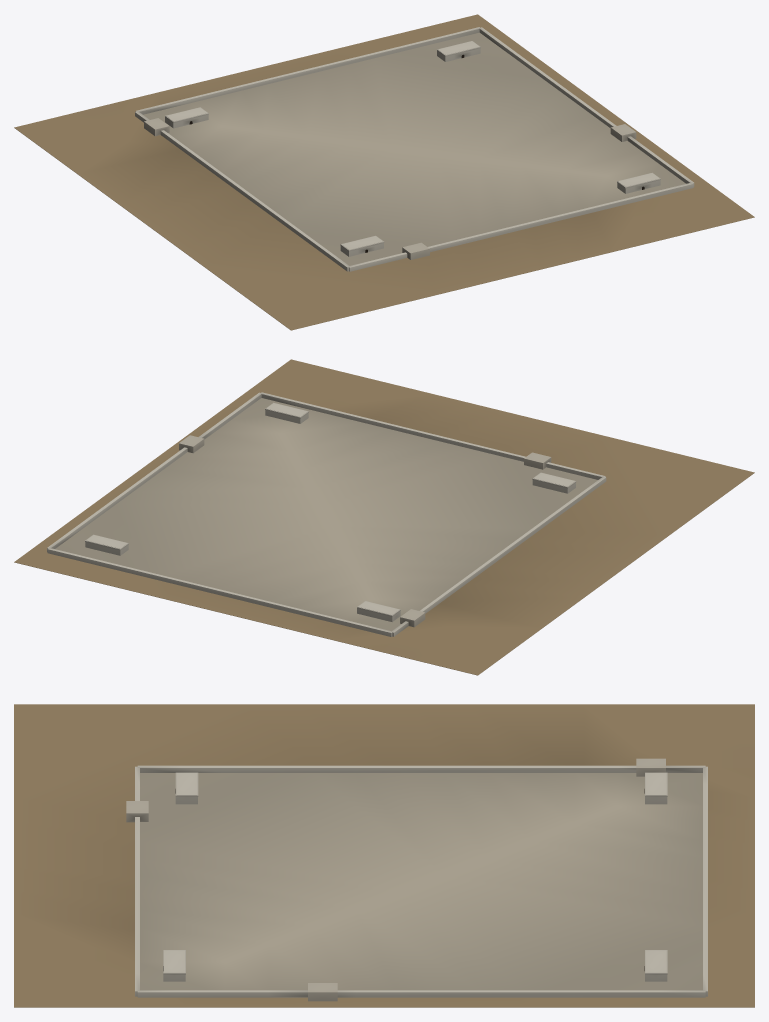
The model's file is sacred-precinct-1440.glb.
The picture shows the model from 3 angles, top to bottom: view 1: azimuth 30°, elevation 25°; view 2: azimuth 150°, elevation 25°; view 3: azimuth 270°, elevation 25°; orthographic projection. The views are drawn at different scales.
Parts seen in each view (by area): view 1: p0_ground, p1_wall, p2_gates; view 2: p0_ground, p1_wall, p2_gates; view 3: p0_ground, p1_wall, p2_gates.
Part boxes in pixels (x1,y1,x2,y2): p0_ground: (14,14,754,330); p1_wall: (135,27,694,271); p2_gates: (144,41,660,259); p0_ground: (14,359,754,675); p1_wall: (47,392,606,636); p2_gates: (85,402,576,627); p0_ground: (14,704,754,1007); p1_wall: (135,765,707,997); p2_gates: (126,758,667,1001).
Size of the model in its own units: 290 by 4.29 by 300.
